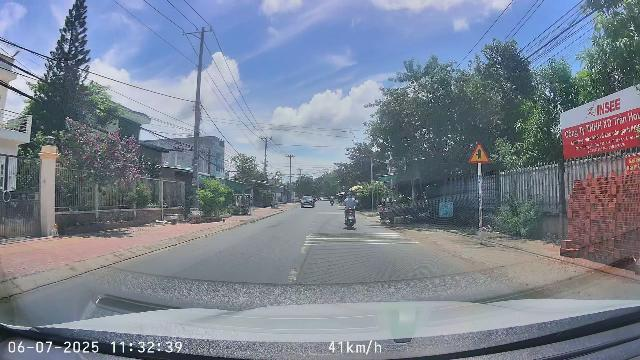207-giao-nhau-voi-duong-khong-uu-tien: (468, 142, 489, 164)
